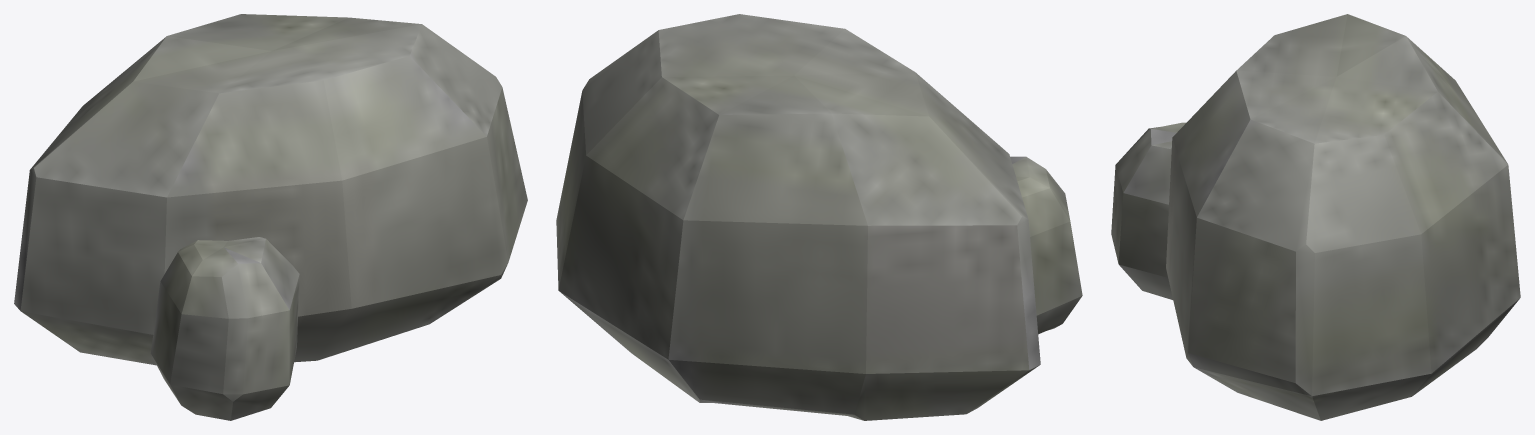
File: sc_rock_4.glb
3 views of the same model, side by side, from view 1: azimuth 30°, elevation 25°; view 2: azimuth 150°, elevation 25°; view 3: azimuth 270°, elevation 25° (orthographic). The views are drawn at different scales.
Parts seen in each view (by area): view 1: 12 · Split loose boulder; view 2: 12 · Split loose boulder; view 3: 12 · Split loose boulder.
Part boxes in pixels (left/top/right/bottom): 12 · Split loose boulder: left=14, top=14, right=527, bottom=420; 12 · Split loose boulder: left=556, top=14, right=1082, bottom=420; 12 · Split loose boulder: left=1111, top=14, right=1520, bottom=420.
Bounding box in the file's own units: 1.83 × 0.9878 × 1.36.
1 material, 1 textured.
